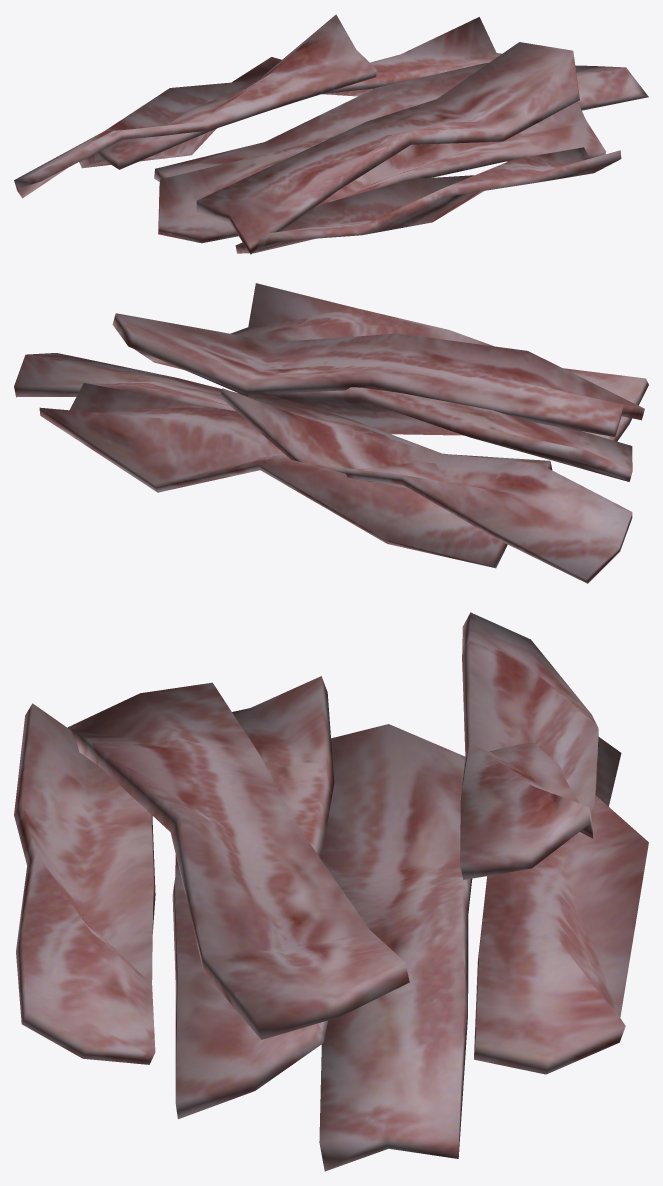
Rendered from Bacon.fbx.
The picture shows the model from 3 angles, top to bottom: view 1: azimuth 30°, elevation 25°; view 2: azimuth 150°, elevation 25°; view 3: azimuth 270°, elevation 25°; orthographic projection. The views are drawn at different scales.
Visible parts, largest first — view 1: Bacon; view 2: Bacon; view 3: Bacon.
Boxes of the visible parts, box(x1,y1,x2,y2) form: Bacon: box(14, 14, 648, 254); Bacon: box(14, 283, 648, 583); Bacon: box(14, 612, 648, 1171).
Size of the model in its own units: 0.3856 by 0.0667 by 0.2052.
